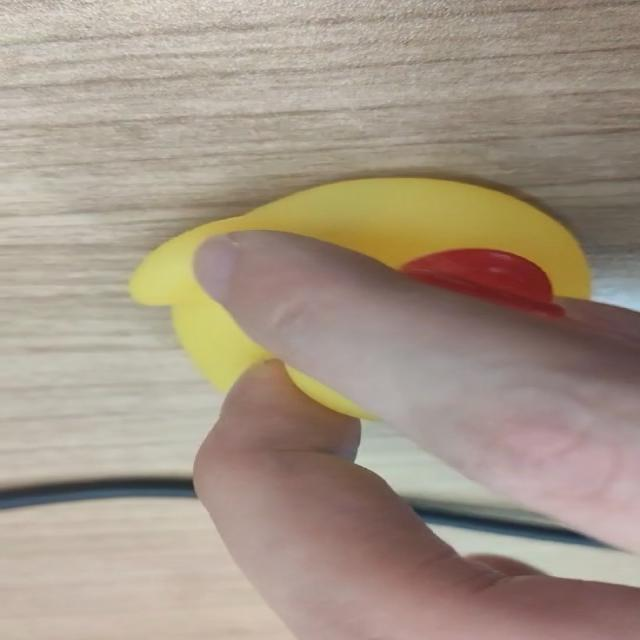rubber-duck: (128, 177, 588, 388), (288, 367, 373, 416)
